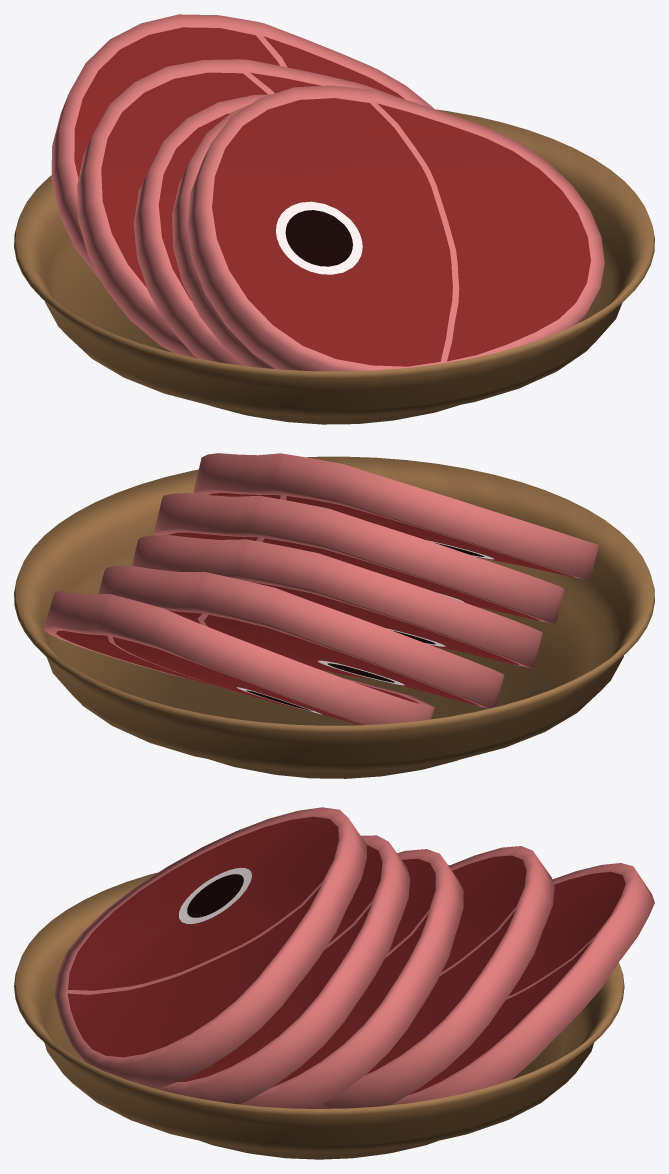
File: meat.gltf
3 renders of one model, top to bottom at view 1: azimuth 30°, elevation 25°; view 2: azimuth 150°, elevation 25°; view 3: azimuth 270°, elevation 25°, orthographic. The views are drawn at different scales.
Parts seen in each view (by area): view 1: meat, plate; view 2: meat, plate; view 3: meat, plate.
Boxes of the visible parts, x1,y1,x2,y2 form: meat: [51, 14, 604, 371]; plate: [14, 109, 654, 424]; meat: [43, 453, 598, 725]; plate: [14, 456, 654, 778]; meat: [55, 807, 654, 1108]; plate: [14, 865, 624, 1159].
Size of what is drawn, in the model's own units: 0.542 by 0.2418 by 0.569.
1 material, 1 textured.
